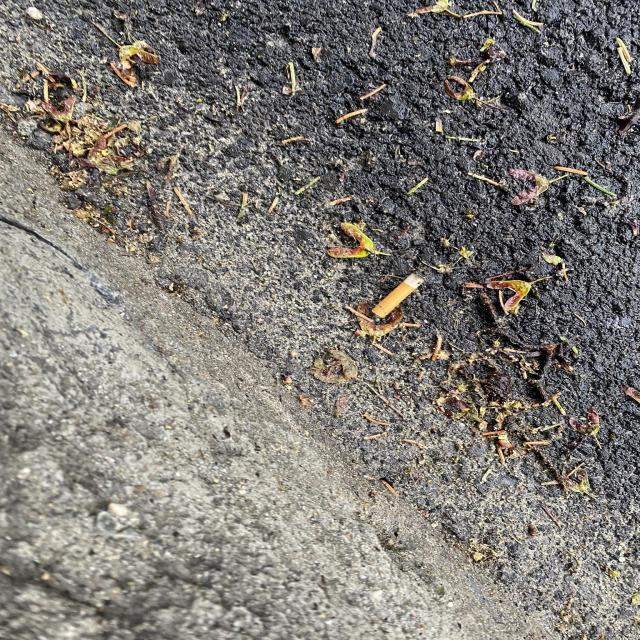other waste: (371, 272, 425, 319)
